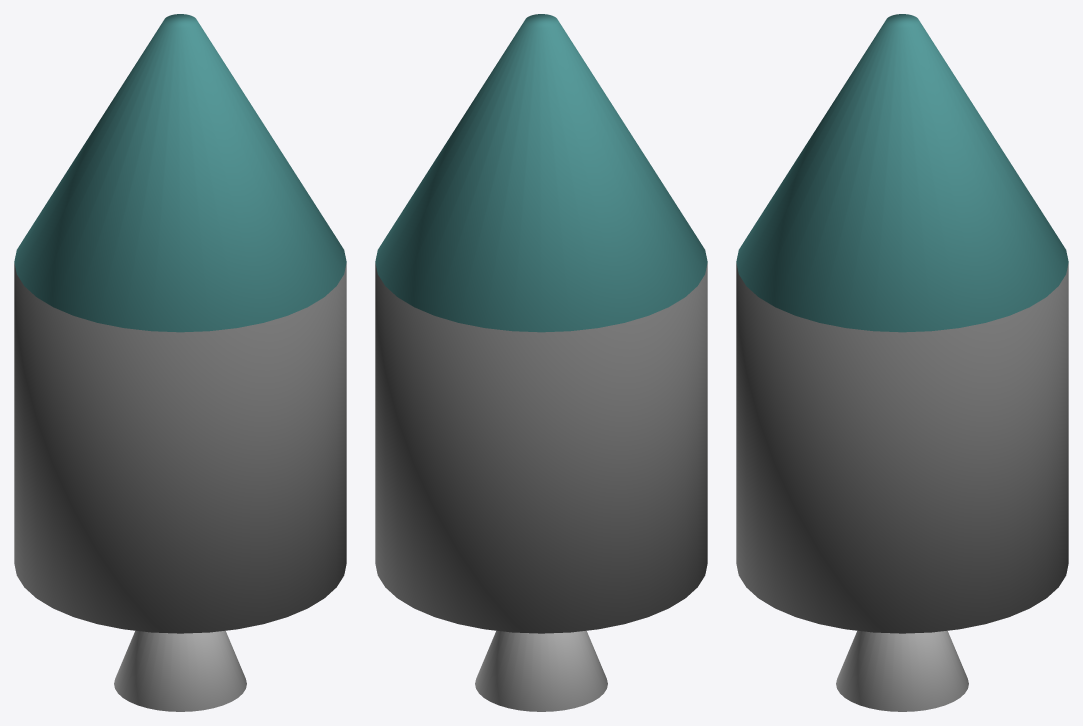
The picture shows the model from 3 angles, left to right: view 1: azimuth 30°, elevation 25°; view 2: azimuth 150°, elevation 25°; view 3: azimuth 270°, elevation 25°; orthographic projection.
Parts seen in each view (by area): view 1: ship; view 2: ship; view 3: ship.
Part boxes in pixels (bbox=[...]): ship: bbox=[14, 14, 346, 711]; ship: bbox=[375, 14, 707, 711]; ship: bbox=[736, 14, 1068, 711].
Size of the model in its own units: 1 by 2.2 by 1.
